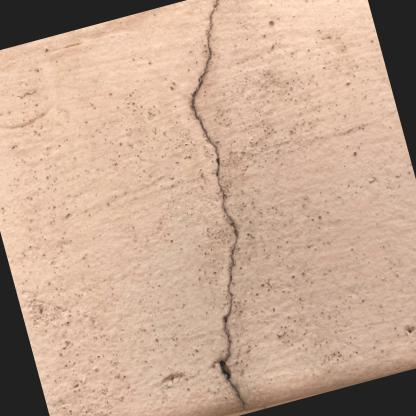crack: (189, 0, 243, 408)
